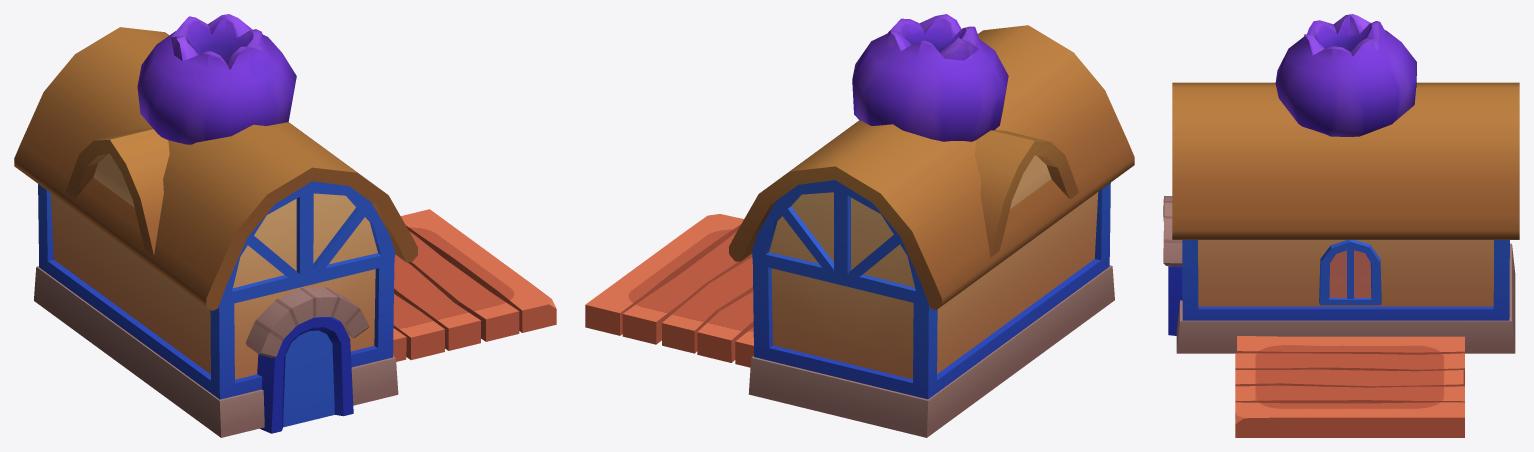
Rendered from Blueberry Storage.fbx.
3 views of the same model, side by side, from view 1: azimuth 30°, elevation 25°; view 2: azimuth 150°, elevation 25°; view 3: azimuth 270°, elevation 25° (orthographic). The views are drawn at different scales.
Parts seen in each view (by area): view 1: Cube.023; view 2: Cube.023; view 3: Cube.023.
Part boxes in pixels (<box>): Cube.023: <box>14,14,556,437</box>; Cube.023: <box>585,14,1134,437</box>; Cube.023: <box>1163,14,1519,437</box>.
Size of the model in its own units: 1.54 by 1.23 by 1.36.
